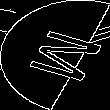M_E: (10, 24, 100, 86)
